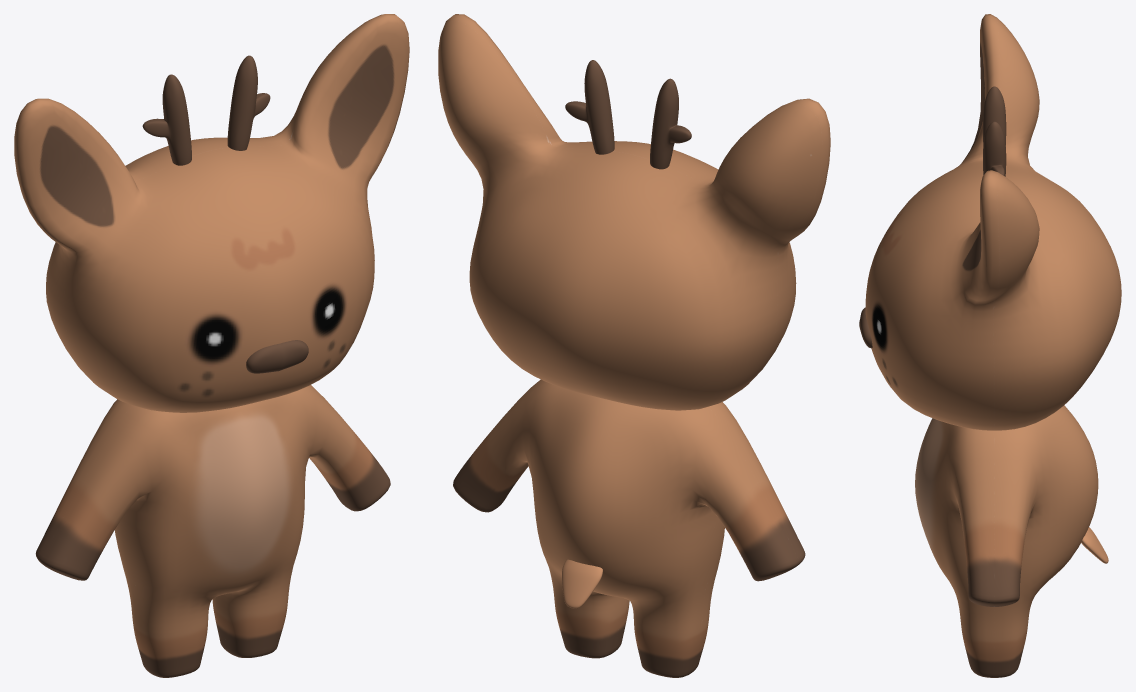
File: deer (1).fbx
The picture shows the model from 3 angles, left to right: view 1: azimuth 30°, elevation 25°; view 2: azimuth 150°, elevation 25°; view 3: azimuth 270°, elevation 25°; orthographic projection. The views are drawn at different scales.
Visible parts, largest first — view 1: Roundcube.020, Roundcube.023, Roundcube.021, Roundcube.022, Roundcube.024; view 2: Roundcube.020, Roundcube.023, Roundcube.022, Roundcube.021, Roundcube.025; view 3: Roundcube.020, Roundcube.023, Roundcube.022, Roundcube.021, Roundcube.025.
Part boxes in pixels (box(x1,y1,x2,y2)): Roundcube.020: box(14, 14, 409, 412); Roundcube.023: box(35, 385, 390, 677); Roundcube.021: box(142, 74, 191, 165); Roundcube.022: box(227, 55, 270, 150); Roundcube.024: box(246, 340, 308, 373); Roundcube.020: box(438, 14, 830, 410); Roundcube.023: box(453, 379, 805, 677); Roundcube.022: box(565, 60, 614, 154); Roundcube.021: box(650, 78, 691, 169); Roundcube.025: box(562, 559, 602, 608); Roundcube.020: box(865, 14, 1121, 430); Roundcube.023: box(915, 405, 1098, 677); Roundcube.022: box(983, 121, 1006, 176); Roundcube.021: box(983, 86, 1006, 145); Roundcube.025: box(1081, 527, 1108, 563).
Bounding box in the file's own units: 87.84 × 130 × 55.3.
3 materials, 1 textured.
